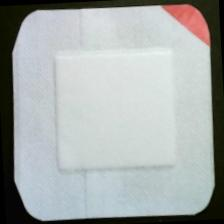Dressing: (4, 1, 220, 224)
Red_T: (158, 1, 217, 54)
